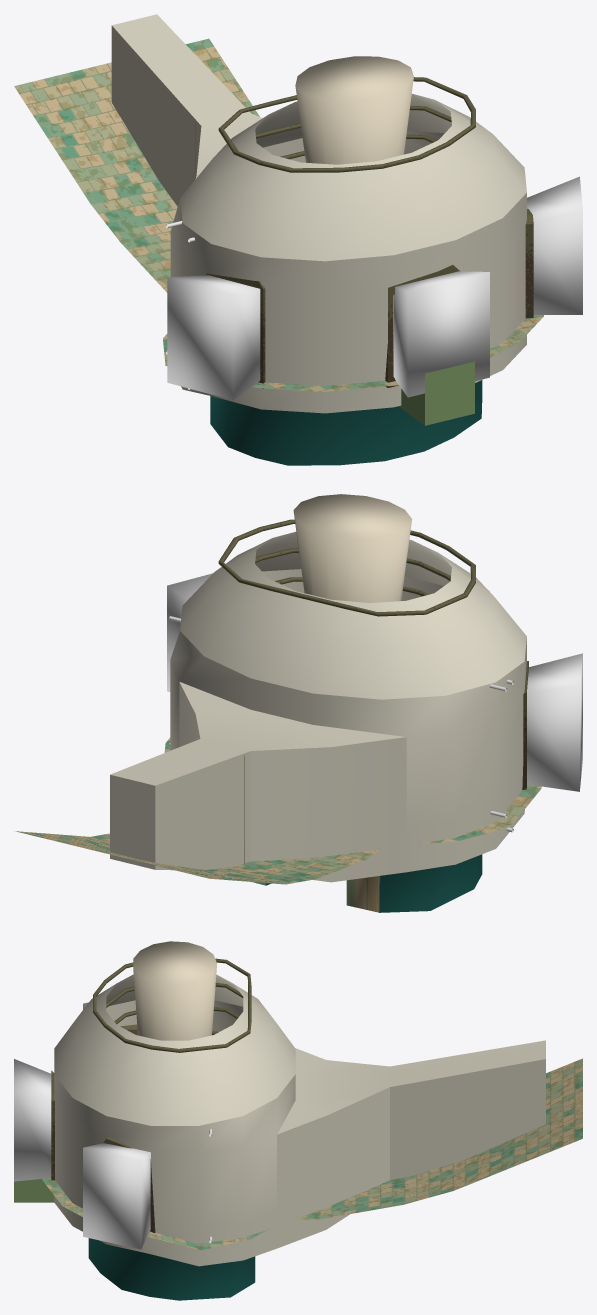
The model's file is TUT_ute fixed normal.fbx.
3 renders of one model, top to bottom at view 1: azimuth 30°, elevation 25°; view 2: azimuth 150°, elevation 25°; view 3: azimuth 270°, elevation 25°, orthographic. The views are drawn at different scales.
Visible parts, largest first — view 1: väggar, golv, tuben_bas, Cube, räcke, dörr, dörr.002, dörr.001; view 2: väggar, tuben_bas, golv, räcke; view 3: väggar, golv, tuben_bas, räcke, Cube.
Part boxes in pixels (x1,y1,x2,y2): väggar: (111,14,582,413); golv: (14,38,543,465); tuben_bas: (295,56,413,164); Cube: (399,361,474,425); räcke: (218,77,475,172); dörr: (385,265,459,387); dörr.002: (525,208,533,318); dörr.001: (206,273,265,388); väggar: (110,531,582,882); tuben_bas: (293,494,411,602); golv: (14,737,541,912); räcke: (218,519,475,616); väggar: (14,974,545,1266); golv: (42,1058,582,1300); tuben_bas: (133,941,216,1040); räcke: (93,958,251,1052); Cube: (14,1179,54,1202).
Size of the model in its own units: 1654 by 1317 by 2342.
